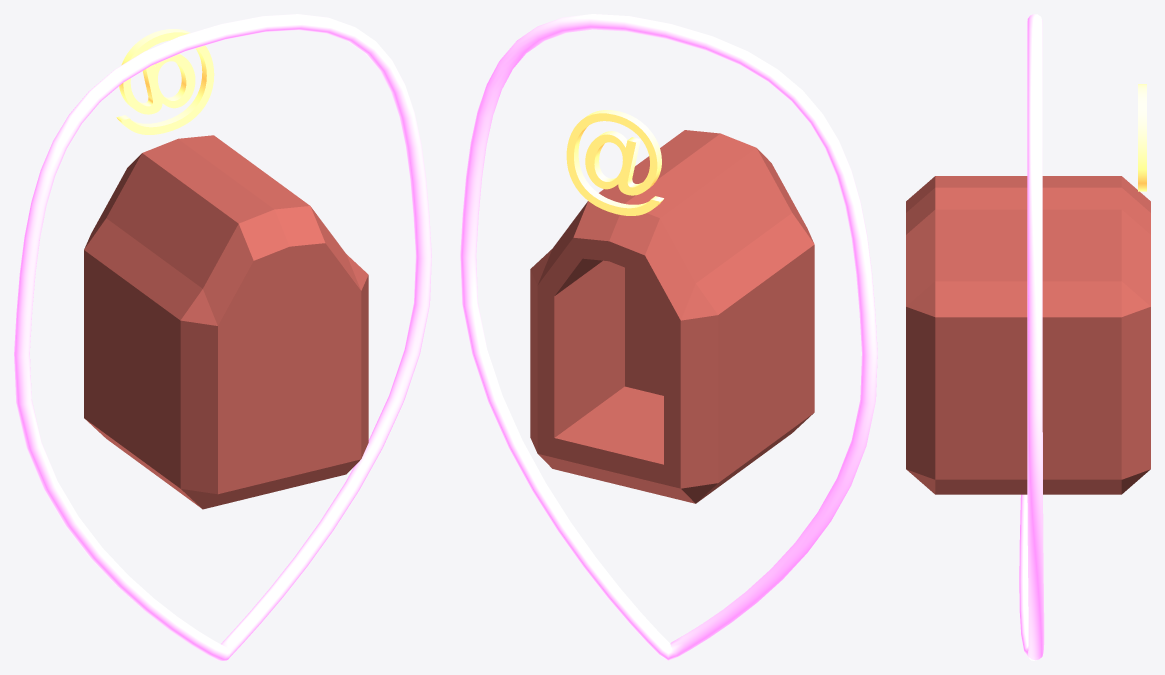
Rendered from Email.glb.
3 views of the same model, side by side, from view 1: azimuth 30°, elevation 25°; view 2: azimuth 150°, elevation 25°; view 3: azimuth 270°, elevation 25° (orthographic). The views are drawn at different scales.
Visible parts, largest first — view 1: Box, Ring; view 2: Box, Ring; view 3: Box, Ring.
Boxes of the visible parts, x1,y1,x2,y2 form: Box: (84,29,368,509); Ring: (14,14,431,660); Box: (530,110,814,503); Ring: (460,14,877,660); Box: (906,84,1150,494); Ring: (1019,14,1044,660).
Size of the model in its own units: 1.31 by 1.91 by 0.6901.
